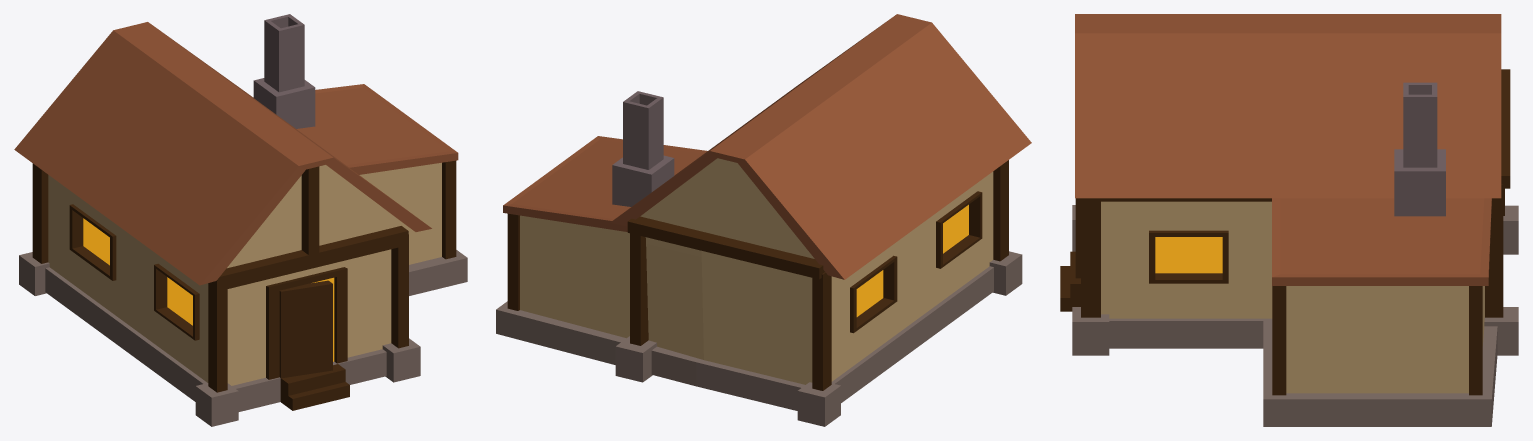
Rendered from house.fbx.
3 renders of one model, left to right at view 1: azimuth 30°, elevation 25°; view 2: azimuth 150°, elevation 25°; view 3: azimuth 270°, elevation 25°, orthographic. The views are drawn at different scales.
Visible parts, largest first — view 1: Plane, Plane.003, Plane.014, Plane.001, Plane.004, Plane.005, Plane.006, Plane.002, Plane.008, Plane.010, Plane.015, Plane.011 (+1 smaller); view 2: Plane, Plane.003, Plane.009, Plane.008, Plane.007, Plane.013, Plane.005, Plane.012, Plane.016, Plane.010; view 3: Plane, Plane.003, Plane.006, Plane.007, Plane.015, Plane.011, Plane.016, Plane.009, Plane.012, Plane.013, Plane.001, Plane.014.
Part boxes in pixels (bbox=[...]): Plane: bbox=[14, 22, 467, 411]; Plane.003: bbox=[253, 14, 315, 128]; Plane.014: bbox=[279, 280, 332, 378]; Plane.001: bbox=[217, 226, 408, 291]; Plane.004: bbox=[266, 267, 347, 379]; Plane.005: bbox=[208, 279, 227, 392]; Plane.006: bbox=[391, 234, 408, 348]; Plane.002: bbox=[301, 166, 319, 258]; Plane.008: bbox=[32, 163, 48, 263]; Plane.010: bbox=[195, 383, 238, 426]; Plane.015: bbox=[442, 160, 456, 259]; Plane.011: bbox=[382, 338, 420, 382]; Plane: bbox=[496, 14, 1031, 410]; Plane.003: bbox=[612, 91, 674, 206]; Plane.009: bbox=[627, 216, 824, 279]; Plane.008: bbox=[812, 272, 831, 390]; Plane.007: bbox=[630, 233, 648, 345]; Plane.013: bbox=[797, 382, 840, 426]; Plane.005: bbox=[993, 160, 1008, 261]; Plane.012: bbox=[615, 336, 656, 382]; Plane.016: bbox=[507, 213, 519, 310]; Plane.010: bbox=[989, 251, 1022, 295]; Plane: bbox=[1060, 14, 1501, 426]; Plane.003: bbox=[1394, 82, 1445, 216]; Plane.006: bbox=[1081, 198, 1100, 317]; Plane.007: bbox=[1485, 184, 1503, 317]; Plane.015: bbox=[1272, 286, 1286, 395]; Plane.011: bbox=[1072, 307, 1109, 355]; Plane.016: bbox=[1469, 286, 1482, 395]; Plane.009: bbox=[1501, 69, 1510, 188]; Plane.012: bbox=[1484, 307, 1518, 355]; Plane.013: bbox=[1503, 205, 1518, 254]; Plane.001: bbox=[1101, 198, 1271, 201]; Plane.014: bbox=[1075, 198, 1080, 278].
Size of the model in its own units: 1279 by 834 by 1262.
